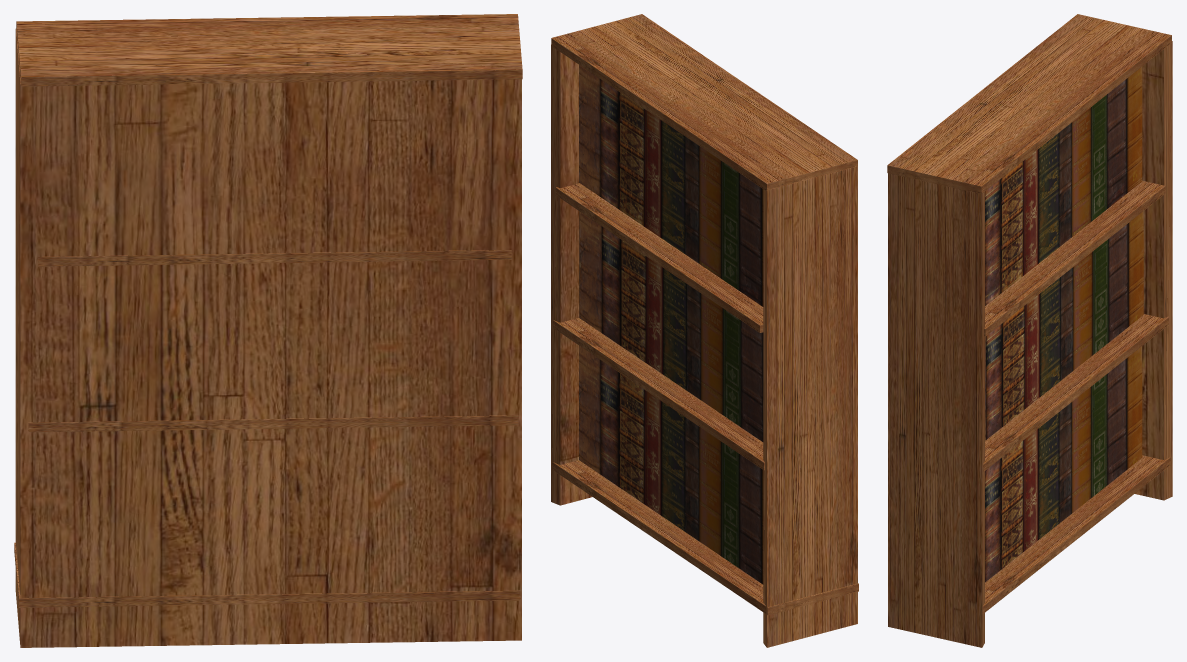
File: Bookshelf_112-101-022__f8e1ee99-87df-4096-84ed-c60f1e1cfc52.dae
3 views of the same model, side by side, from view 1: azimuth 30°, elevation 25°; view 2: azimuth 150°, elevation 25°; view 3: azimuth 270°, elevation 25° (orthographic). The views are drawn at different scales.
Parts seen in each view (by area): view 1: Bookshelf, Primitive (×4); view 2: Primitive (×6), Bookshelf (×2); view 3: Bookshelf (×2), Primitive (×6).
Boxes of the visible parts, bbox=[...] form: Bookshelf: bbox=[15, 29, 521, 647]; Primitive (×4): bbox=[14, 14, 522, 607]; Primitive (×6): bbox=[551, 14, 858, 615]; Bookshelf (×2): bbox=[551, 44, 857, 647]; Bookshelf (×2): bbox=[888, 41, 1172, 647]; Primitive (×6): bbox=[887, 14, 1171, 613].
Bounding box in the file's own units: 1.3 × 0.9044 × 1.61.
